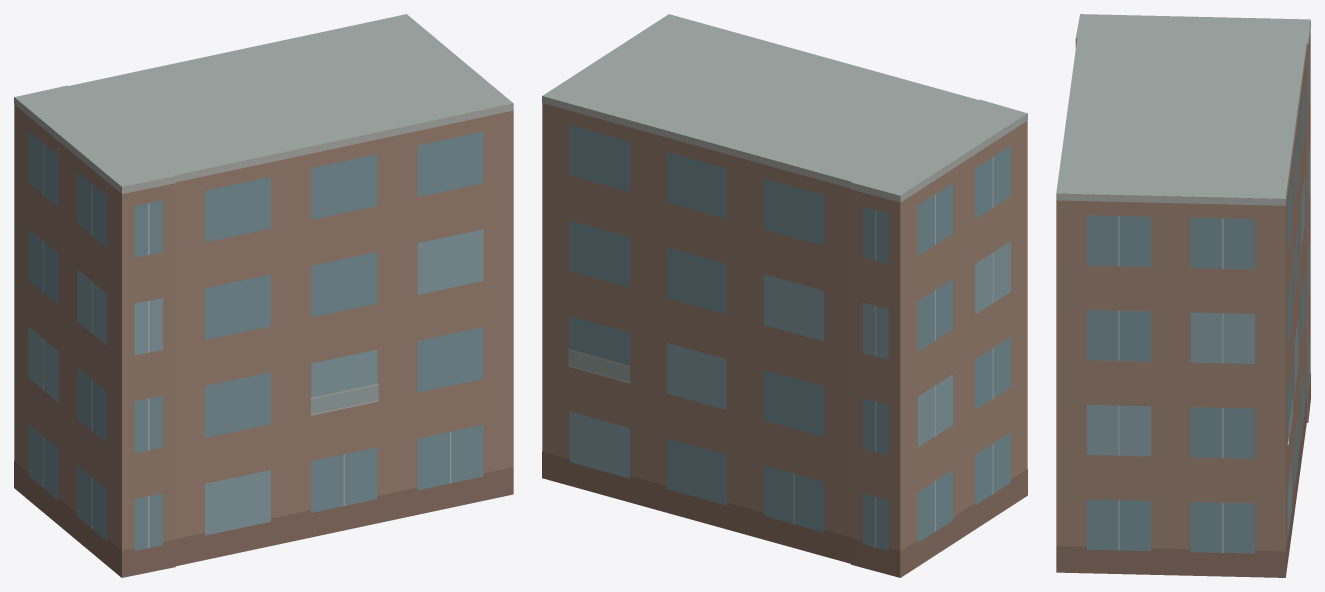
The model's file is survey-upis-32963596.glb.
The picture shows the model from 3 angles, left to right: view 1: azimuth 30°, elevation 25°; view 2: azimuth 150°, elevation 25°; view 3: azimuth 270°, elevation 25°; orthographic projection. The views are drawn at different scales.
Parts seen in each view (by area): view 1: survey-upis-32963596.tmp; view 2: survey-upis-32963596.tmp; view 3: survey-upis-32963596.tmp.
Part boxes in pixels (x1,y1,x2,y2): survey-upis-32963596.tmp: [14, 14, 513, 577]; survey-upis-32963596.tmp: [542, 14, 1027, 577]; survey-upis-32963596.tmp: [1056, 14, 1310, 577].
Bounding box in the file's own units: 14.03 × 13.4 × 8.17.
